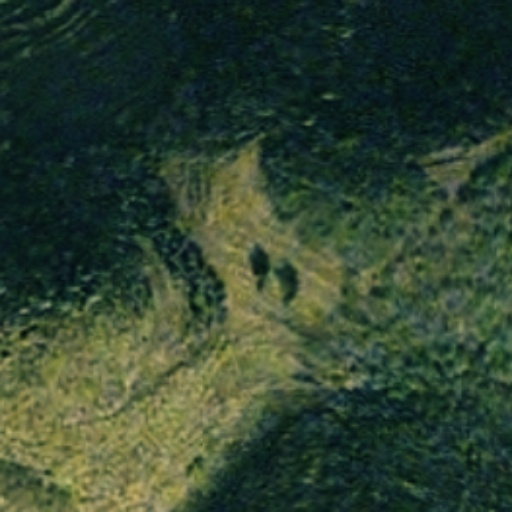landslide: (2, 137, 342, 510)
